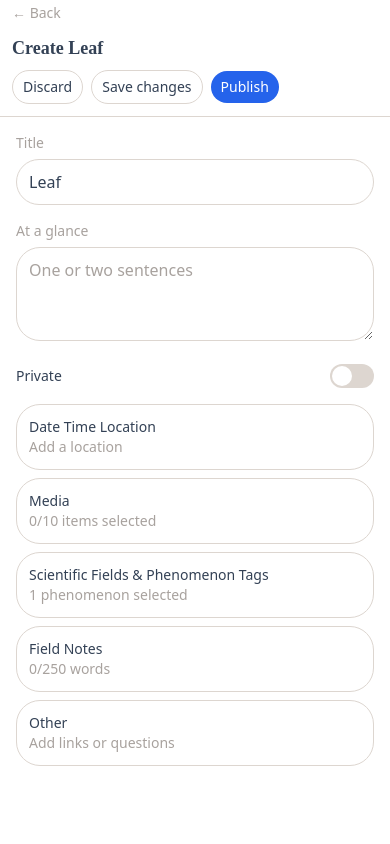
PebbleForm › offers Evolution and Biotechnology and keeps a saved photosynthesis chip
What coordinates should you click on to do the following:
click the button "Scientific Fields & Phenomenon Tags 1 phenomenon selected"
I would click on:
 (195, 585)
Its box is top-left (16, 552), bottom-right (374, 618).
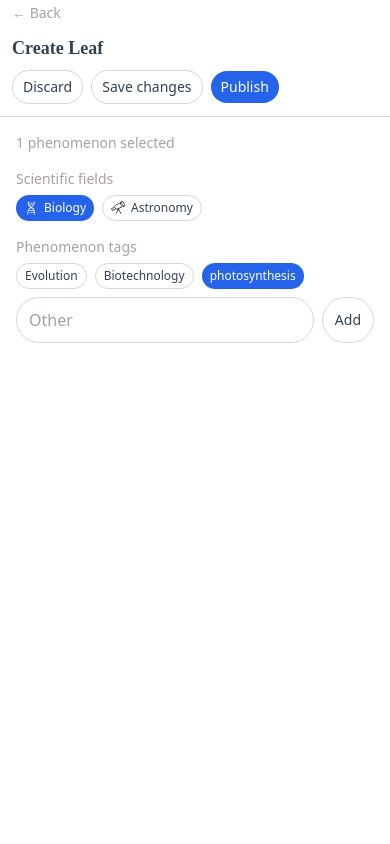
Expected: the button "Biotechnology" is shown, top-left (95, 263), bottom-right (194, 289)
Expected: the button "photosynthesis" is shown, top-left (202, 263), bottom-right (304, 289)
